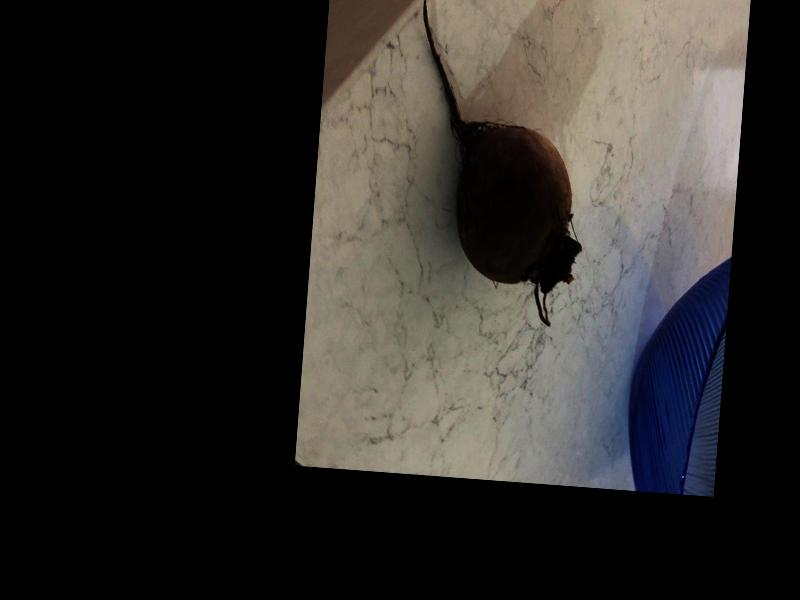Beet: (399, 0, 597, 326)
